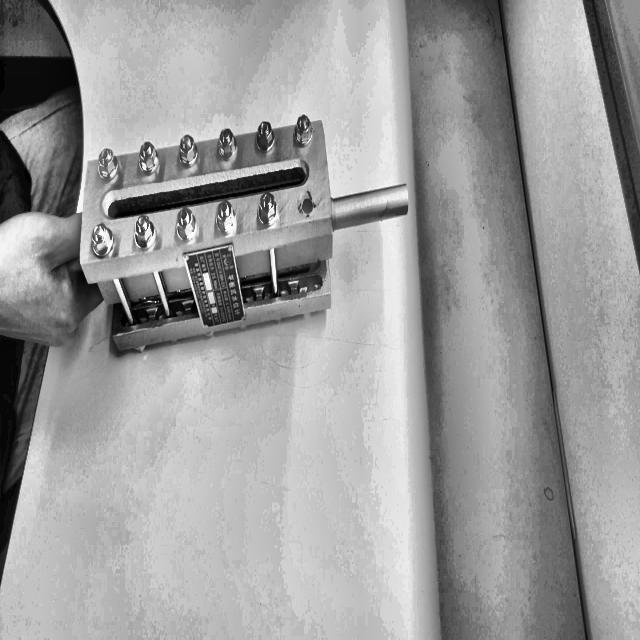ShuiWeiQi_11: (79, 113, 422, 354)
